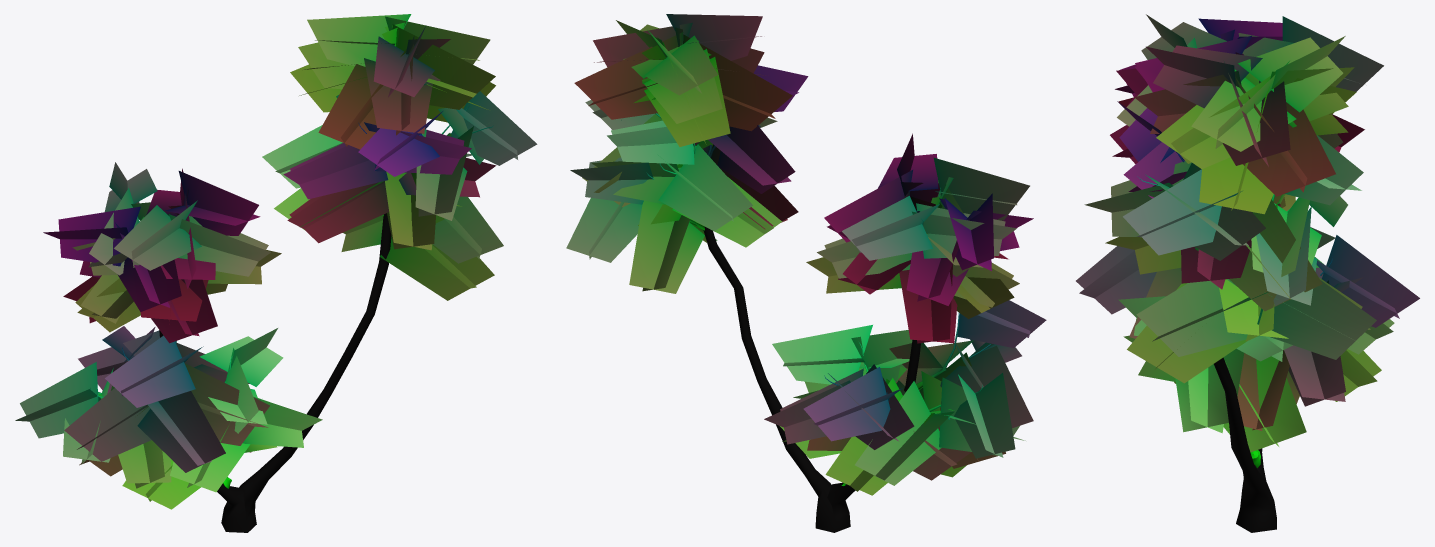
File: M_Realistic7_16.fbx
The picture shows the model from 3 angles, left to right: view 1: azimuth 30°, elevation 25°; view 2: azimuth 150°, elevation 25°; view 3: azimuth 270°, elevation 25°; orthographic projection. The views are drawn at different scales.
Visible parts, largest first — view 1: Tree_16; view 2: Tree_16; view 3: Tree_16.
Boxes of the visible parts, box(x1,y1,x2,y2) form: Tree_16: box(15, 14, 537, 532); Tree_16: box(566, 14, 1046, 532); Tree_16: box(1076, 14, 1419, 532).
Bounding box in the file's own units: 1870 × 1793 × 995.
